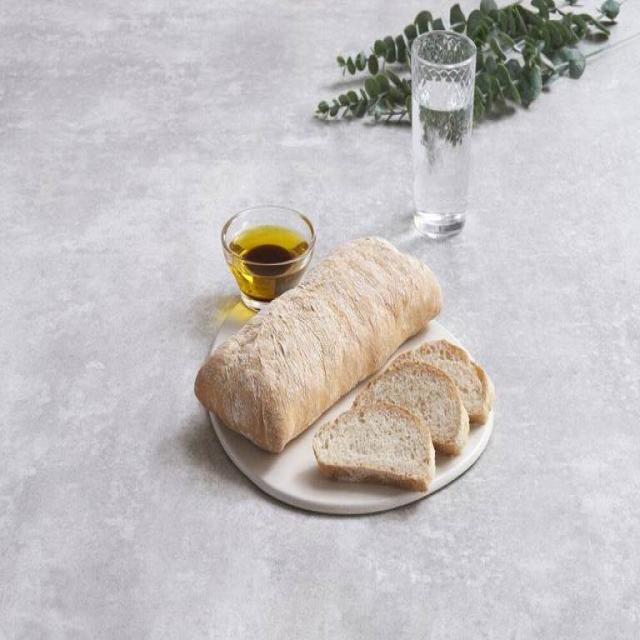Ciabatta: (195, 239, 442, 452)
